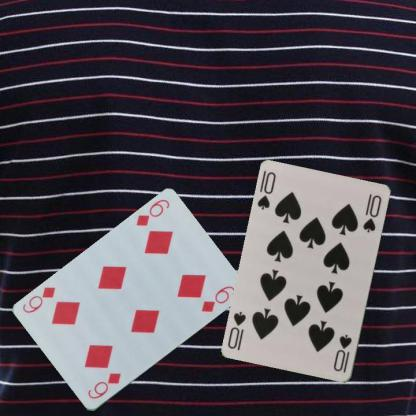10s: (331, 332, 354, 373), (255, 170, 277, 212)
6d: (133, 196, 171, 228), (85, 370, 122, 401)
